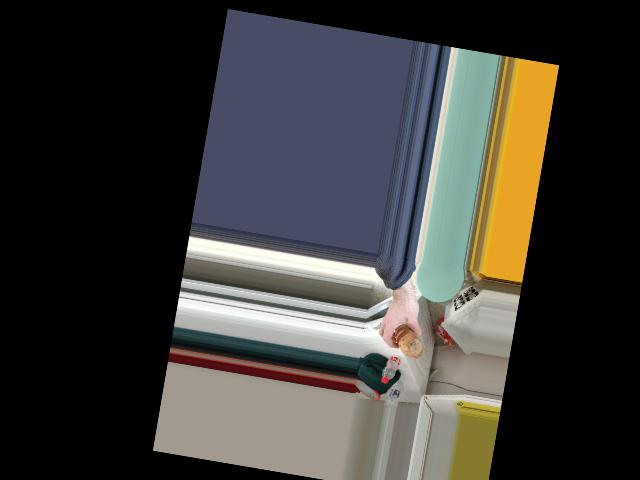sweet_potato: (391, 320, 425, 358)
